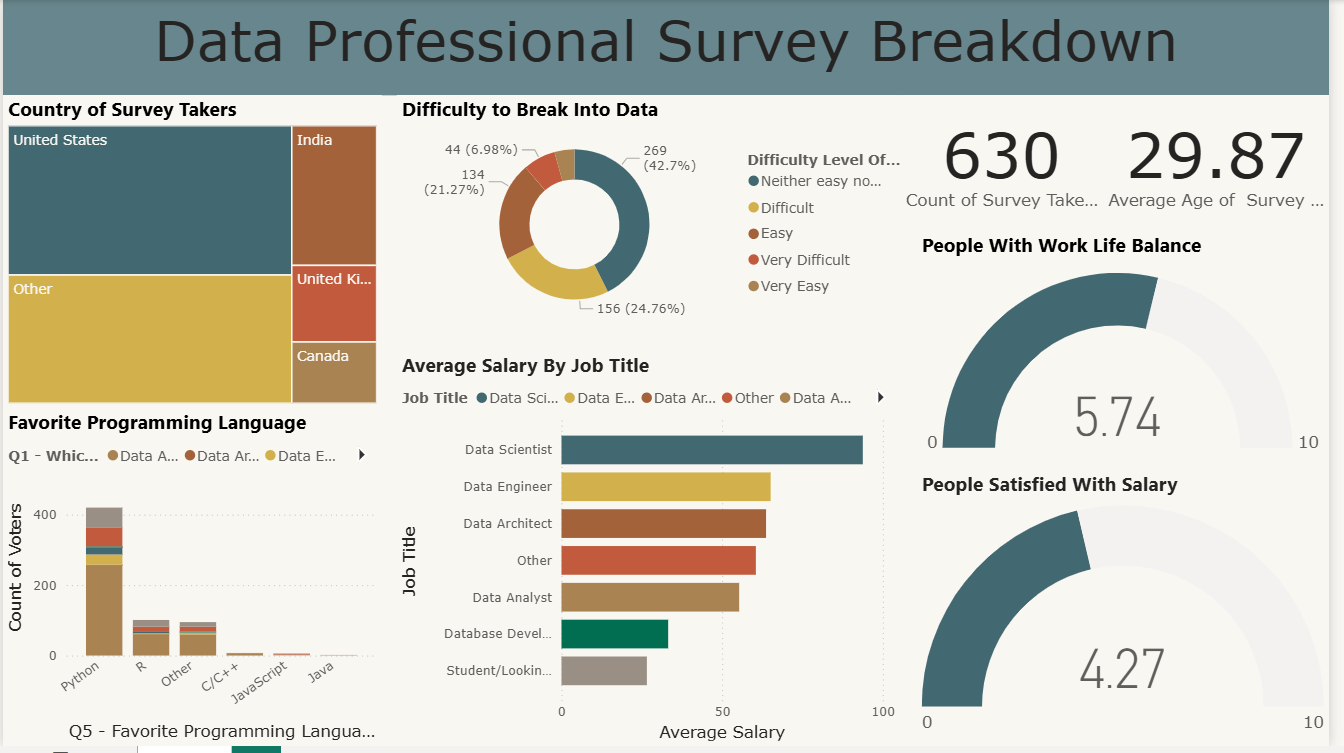

The page's visual inventory and layout, read from the dashboard file:
{"tool":"powerbi","page":{"name":"Page 1","canvas":[1280,720],"ordinal":0},"visuals":[{"type":"textbox","box":[0,0,1280.3,92.2],"z":0},{"type":"card","fields":{"Values":["Count(Data Professional Survey.Unique ID)"]},"box":[866,92.3,195.9,127.9],"z":1000},{"type":"card","fields":{"Values":["Avg(Data Professional Survey.Q10 - Current Age)"]},"box":[1061.8,92.3,218.5,127.9],"z":2000},{"type":"barChart","title":"Average Salary By Job Title","fields":{"Category":["Data Professional Survey.Q1 - Which Title Best Fits your Current Role?.1"],"Y":["Avg(Data Professional Survey.Average Salary)"],"Series":["Data Professional Survey.Q1 - Which Title Best Fits your Current Role?.1"]},"box":[380,338.9,486.3,381.4],"z":3000},{"type":"columnChart","title":"Favorite Programming Language","fields":{"Category":["Data Professional Survey.Q5 - Favorite Programming Language.1"],"Y":["CountNonNull(Data Professional Survey.Unique ID)"],"Series":["Data Professional Survey.Q1 - Which Title Best Fits your Current Role?.1"]},"box":[0,394.9,365.8,325.3],"z":4000},{"type":"treemap","title":"Country of Survey Takers ","fields":{"Group":["Data Professional Survey.Q11 - Which Country do you live in?.1"],"Values":["CountNonNull(Data Professional Survey.Q11 - Which Country do you live in?.1)"]},"box":[0,92.3,365.8,302.7],"z":5000},{"type":"gauge","title":"People With Work Life Balance","fields":{"Y":["Avg(Data Professional Survey.Q6 - How Happy are you in your Current Position with the following? (Work/Life Balance))"],"MinValue":["Min(Data Professional Survey.Q6 - How Happy are you in your Current Position with the following? (Work/Life Balance))1"],"MaxValue":["Max(Data Professional Survey.Q6 - How Happy are you in your Current Position with the following? (Work/Life Balance))2"]},"box":[882.1,223.4,398.2,229.8],"z":6000},{"type":"gauge","title":"People Satisfied With Salary","fields":{"Y":["Avg(Data Professional Survey.Q6 - How Happy are you in your Current Position with the following? (Salary))"],"MinValue":["Min(Data Professional Survey.Q6 - How Happy are you in your Current Position with the following? (Salary))1"],"MaxValue":["Max(Data Professional Survey.Q6 - How Happy are you in your Current Position with the following? (Salary))2"]},"box":[882.1,453.2,398.2,267.1],"z":7000},{"type":"donutChart","title":"Difficulty to Break Into Data","fields":{"Category":["Data Professional Survey.Q7 - How difficult was it for you to break into Data?"],"Y":["CountNonNull(Data Professional Survey.Q7 - How difficult was it for you to break into Data?)"]},"box":[380,92.2,486.3,225.4],"z":8000}]}

Visuals, with their boxes in screenshot pixels (x1, y1, x2, y2), scaled from the page's 1280x720 canvas onto the 1344x753 screenshot:
textbox: {"x1": 0, "y1": 0, "x2": 1343, "y2": 96}
card - Count(Data Professional Survey.Unique ID): {"x1": 909, "y1": 97, "x2": 1115, "y2": 230}
card - Avg(Data Professional Survey.Q10 - Current Age): {"x1": 1115, "y1": 97, "x2": 1343, "y2": 230}
"Average Salary By Job Title" barChart: {"x1": 399, "y1": 354, "x2": 910, "y2": 752}
"Favorite Programming Language" columnChart: {"x1": 0, "y1": 413, "x2": 384, "y2": 752}
"Country of Survey Takers " treemap: {"x1": 0, "y1": 97, "x2": 384, "y2": 413}
"People With Work Life Balance" gauge: {"x1": 926, "y1": 234, "x2": 1343, "y2": 474}
"People Satisfied With Salary" gauge: {"x1": 926, "y1": 474, "x2": 1343, "y2": 752}
"Difficulty to Break Into Data" donutChart: {"x1": 399, "y1": 96, "x2": 910, "y2": 332}
